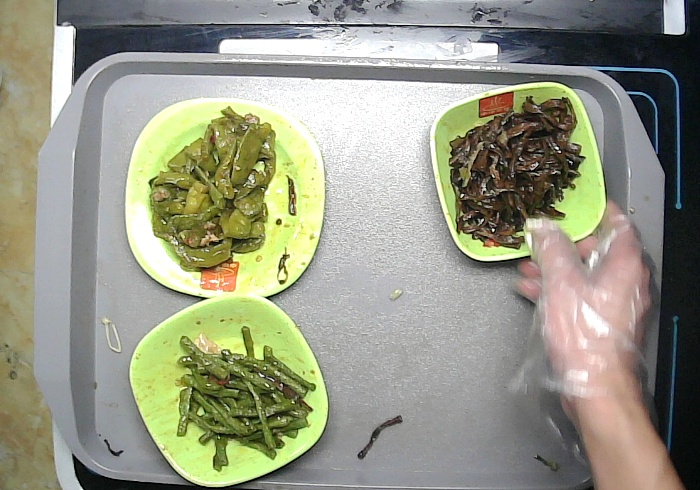SHKJ-Lv_Se_Cai_Die: (127, 293, 331, 489)
SHKJ-Lv_Se_Si_Fang_Cai_Die: (122, 96, 328, 301)
SHKJ-Lv_Se_Xiao_Fang_Die: (428, 80, 610, 263)
